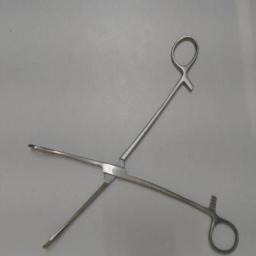Sponge Forceps: (18, 26, 242, 256)
